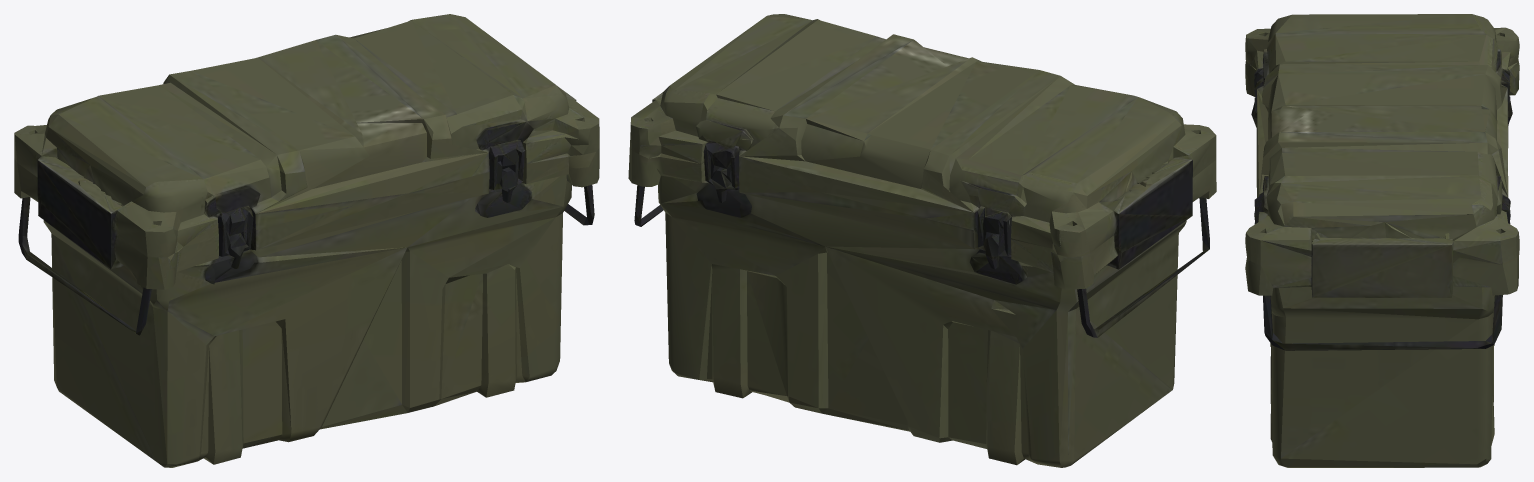
Rendered from colis_coffre.glb.
The picture shows the model from 3 angles, left to right: view 1: azimuth 30°, elevation 25°; view 2: azimuth 150°, elevation 25°; view 3: azimuth 270°, elevation 25°; orthographic projection. The views are drawn at different scales.
Bounding box in the file's own units: 1.9 × 1.14 × 1.02.
Materials: 1 (1 with a texture image).
